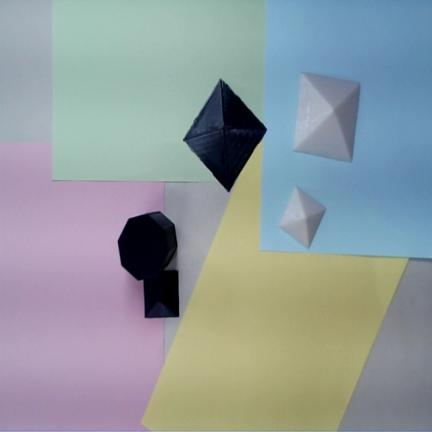Piramide: (183, 78, 268, 192), (292, 73, 360, 163), (278, 184, 327, 250), (144, 270, 180, 318)
Prisma_hexagonal: (117, 212, 178, 281)
